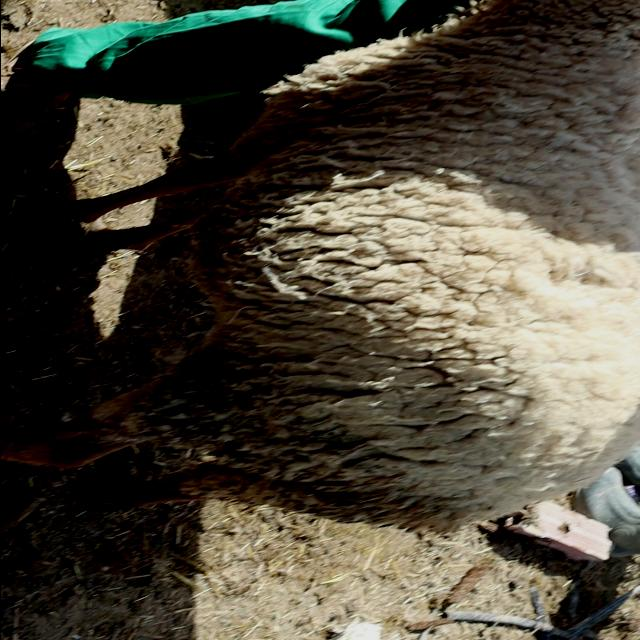Score_5: (1, 0, 640, 532)
